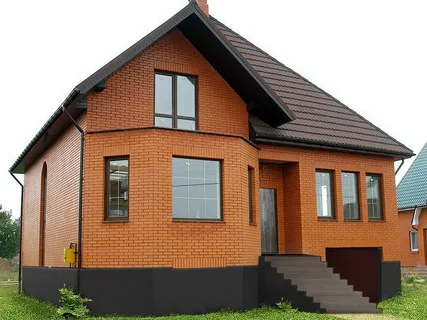private_hause: (39, 15, 400, 302)
